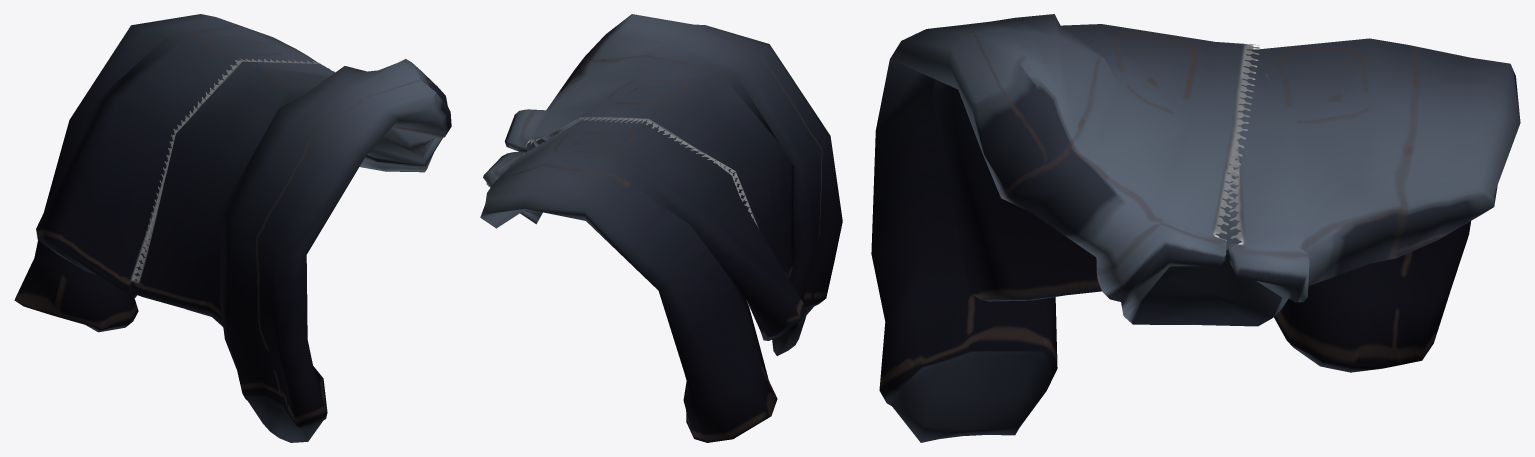
The model's file is Mesh_Jacket_001.fbx.
The picture shows the model from 3 angles, left to right: view 1: azimuth 30°, elevation 25°; view 2: azimuth 150°, elevation 25°; view 3: azimuth 270°, elevation 25°; orthographic projection. The views are drawn at different scales.
Parts seen in each view (by area): view 1: jacketbase; view 2: jacketbase; view 3: jacketbase.
Boxes of the visible parts, box(x1,y1,x2,y2) form: jacketbase: box(14, 14, 451, 442); jacketbase: box(480, 14, 842, 442); jacketbase: box(871, 14, 1520, 442).
Bounding box in the file's own units: 113 × 101 × 122.
